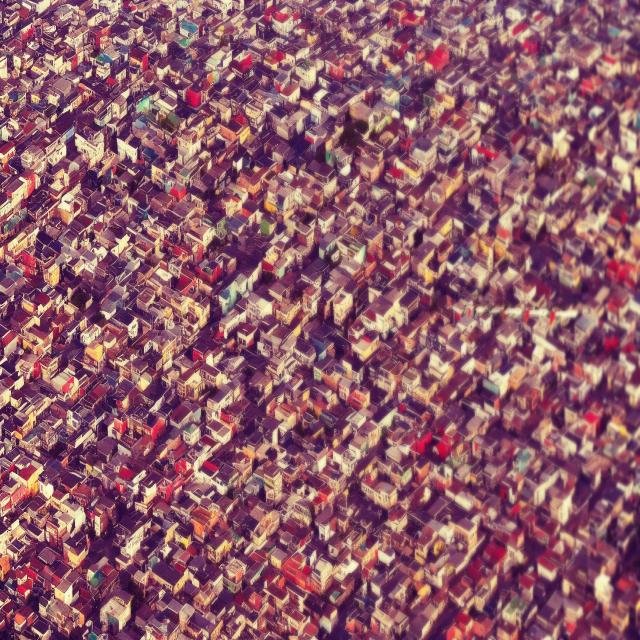airplane: (489, 300, 522, 325), (456, 301, 488, 321), (550, 306, 578, 326), (524, 304, 549, 325)
